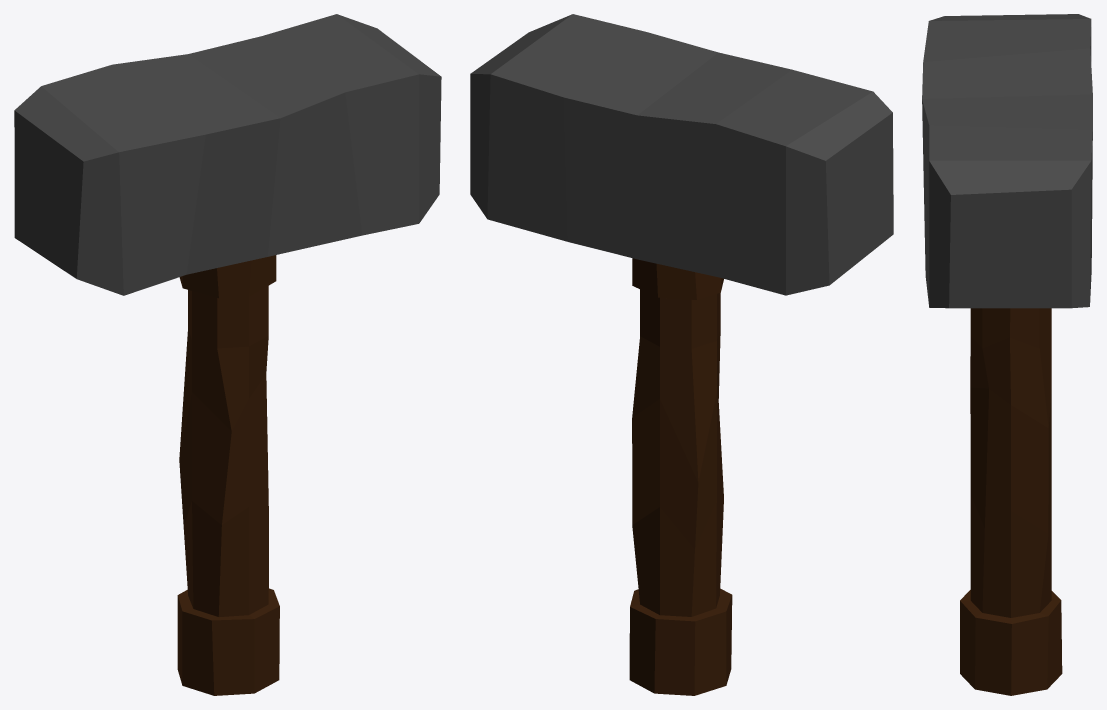
The model's file is hammer_01.fbx.
3 views of the same model, side by side, from view 1: azimuth 30°, elevation 25°; view 2: azimuth 150°, elevation 25°; view 3: azimuth 270°, elevation 25° (orthographic).
Parts seen in each view (by area): view 1: Cylinder; view 2: Cylinder; view 3: Cylinder.
Boxes of the visible parts, box(x1,y1,x2,y2) form: Cylinder: box(14, 14, 441, 695); Cylinder: box(470, 14, 893, 695); Cylinder: box(922, 14, 1092, 695).
Bounding box in the file's own units: 225 × 353 × 92.74.
